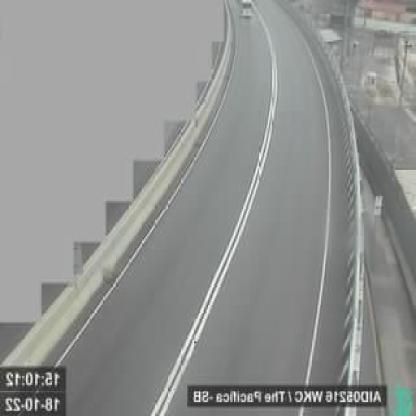Car: (238, 0, 252, 21)
